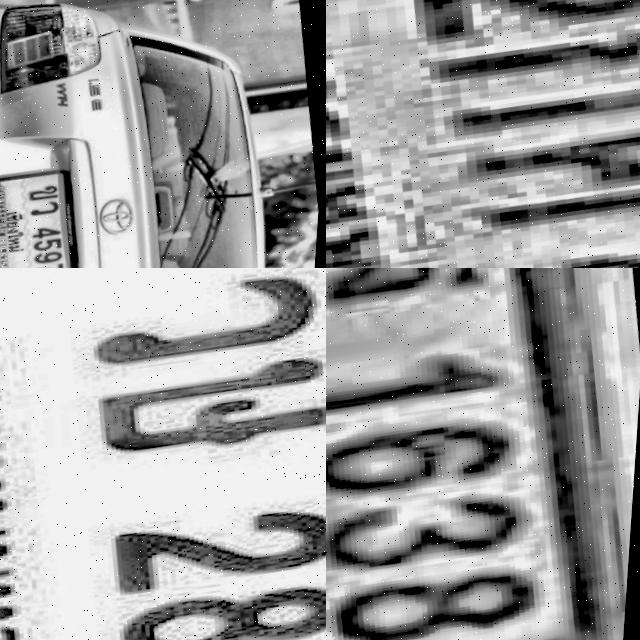license-plate: (0, 268, 326, 640), (326, 268, 640, 640), (326, 0, 640, 268), (0, 159, 96, 268)
